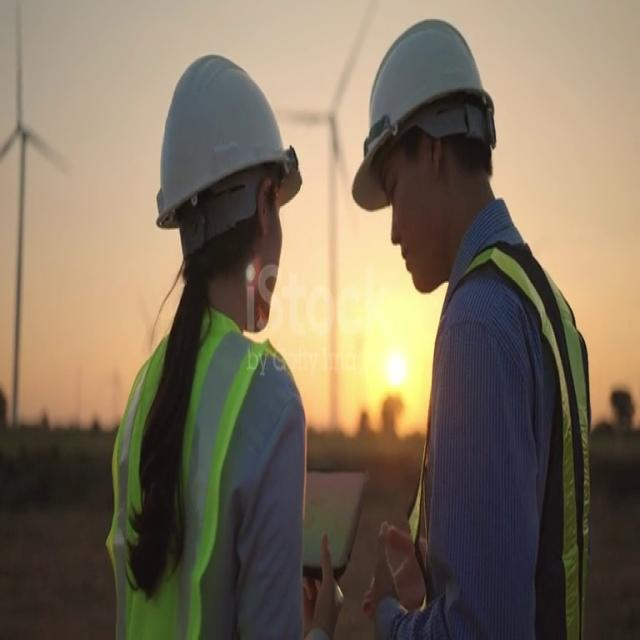capacete: (150, 48, 304, 249), (346, 14, 500, 212)
